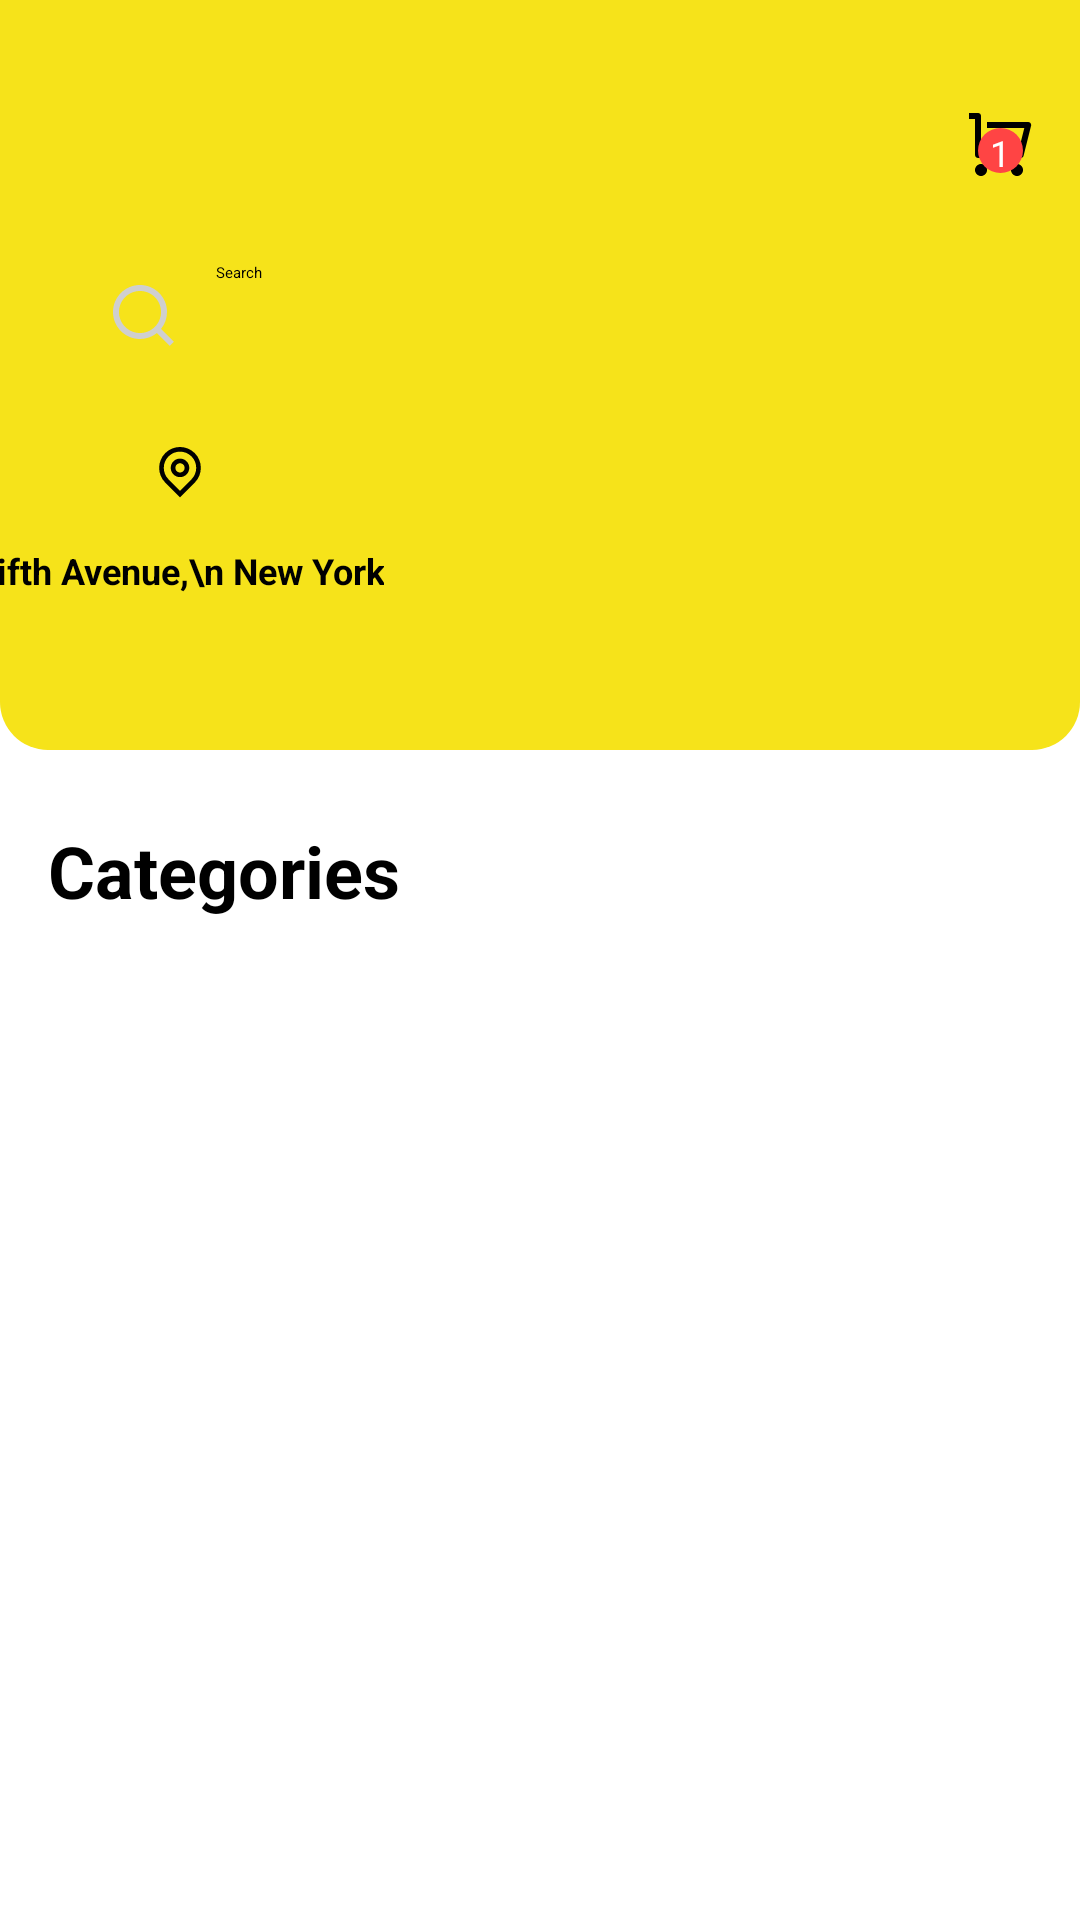

Where icons sit on this 1080×1920 app screen, as (x1, y1, x2, y2):
cart: (969, 113, 1032, 176)
map pin: (159, 447, 201, 497)
